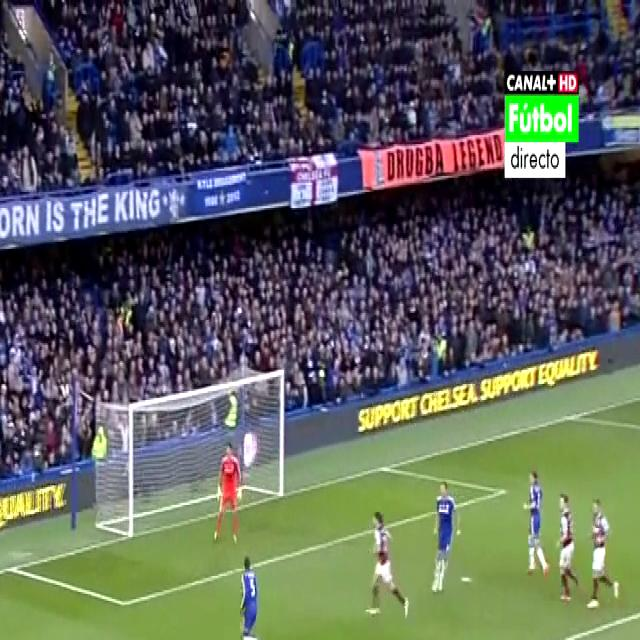goalkeeper: (210, 434, 244, 552)
soccer-player: (356, 497, 412, 631), (584, 486, 624, 622), (428, 472, 469, 603), (518, 458, 551, 584), (548, 487, 579, 613), (229, 542, 266, 640)
